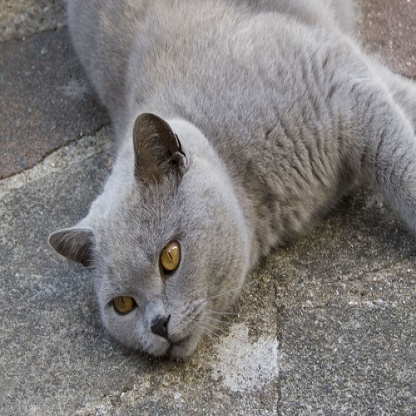british_shorthair: (47, 2, 416, 358)
